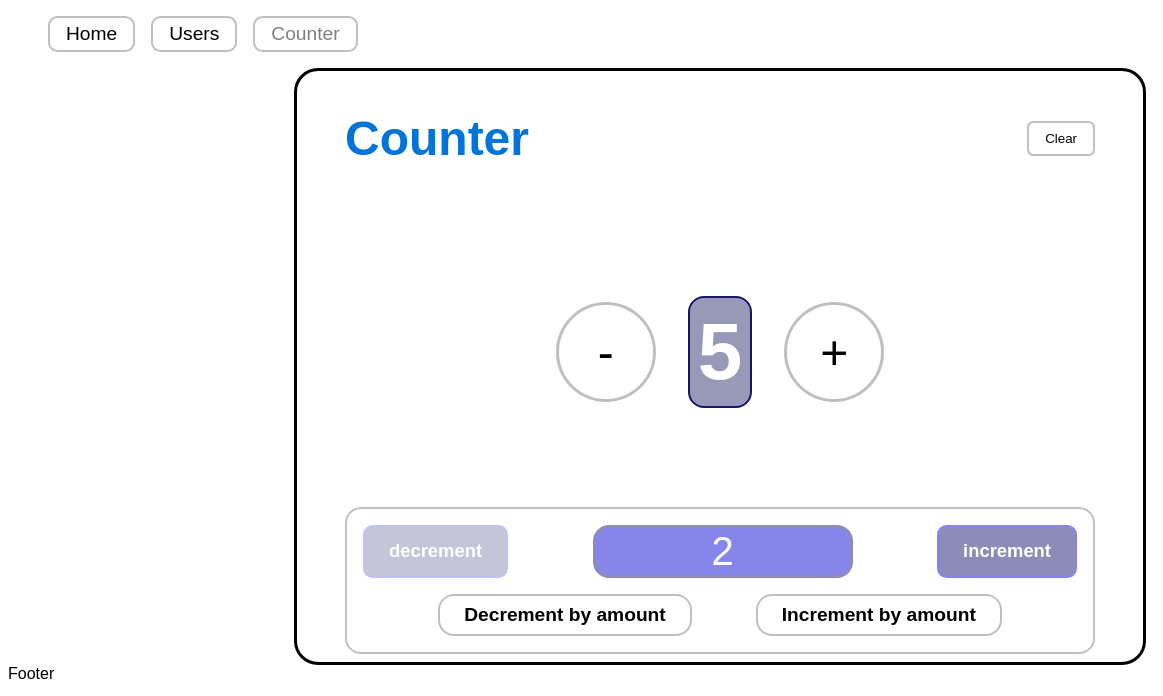
Test: Test counter component › Test increment process
Expected: the heading with test id "global-counter-value" reads "5", x1=698 y1=307 x2=742 y2=396
Click the button with test id "global-counter-increment-button". click: (834, 352)
box: x1=784 y1=302 x2=884 y2=402
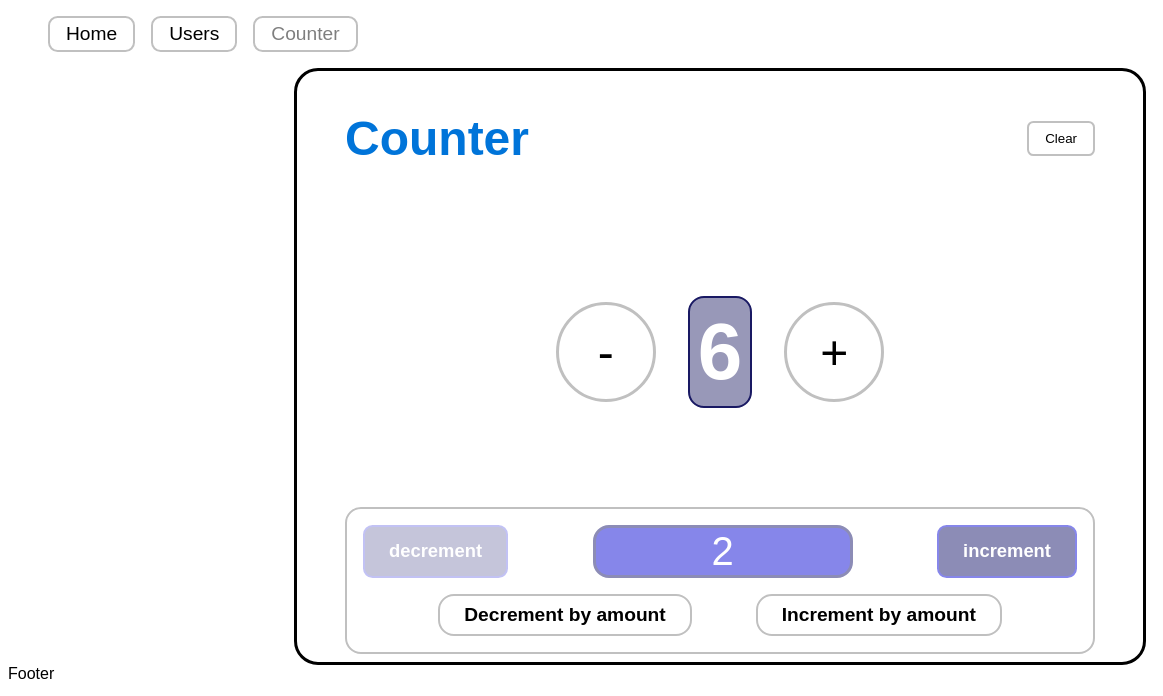
Now the heading with test id "global-counter-value" reads "6", box x1=698 y1=307 x2=742 y2=396
